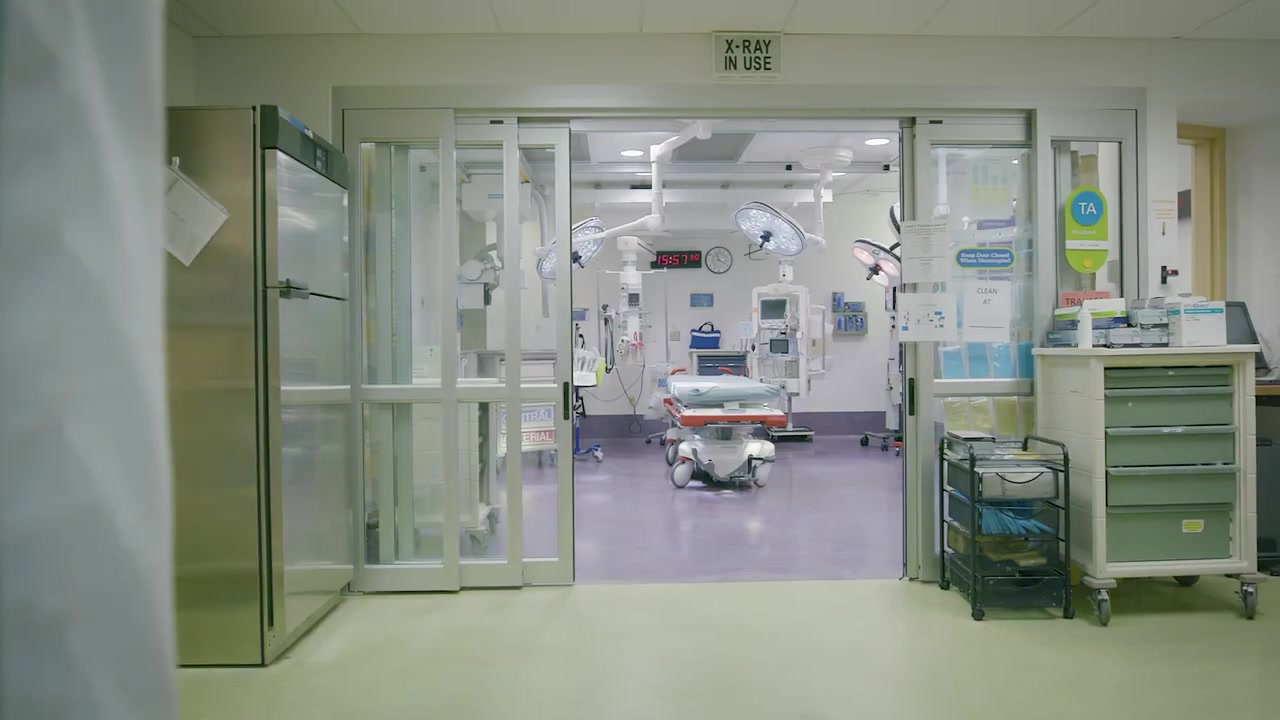bedside_monitor: (757, 297, 791, 325), (769, 338, 789, 355)
cabinet: (169, 103, 366, 643)
computer: (1223, 300, 1268, 372)
handle: (279, 277, 314, 304)
hospital_bed: (661, 368, 788, 489)
light_switch: (670, 331, 680, 340)
medical_drawer: (1030, 344, 1264, 626), (484, 350, 562, 466), (688, 350, 750, 375)
surgical_light: (535, 217, 605, 281), (732, 200, 807, 257), (852, 239, 900, 289), (887, 201, 901, 246)
utility_cart: (937, 429, 1076, 617)
